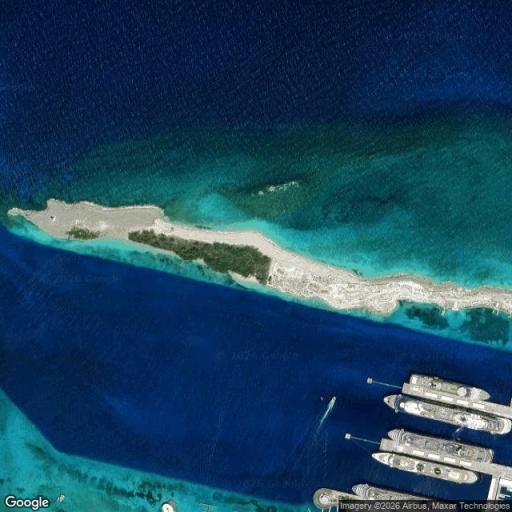ship: (384, 395, 511, 434), (388, 429, 493, 463), (372, 452, 478, 483), (410, 375, 489, 400), (352, 484, 430, 500), (313, 488, 360, 509), (326, 390, 338, 422)
